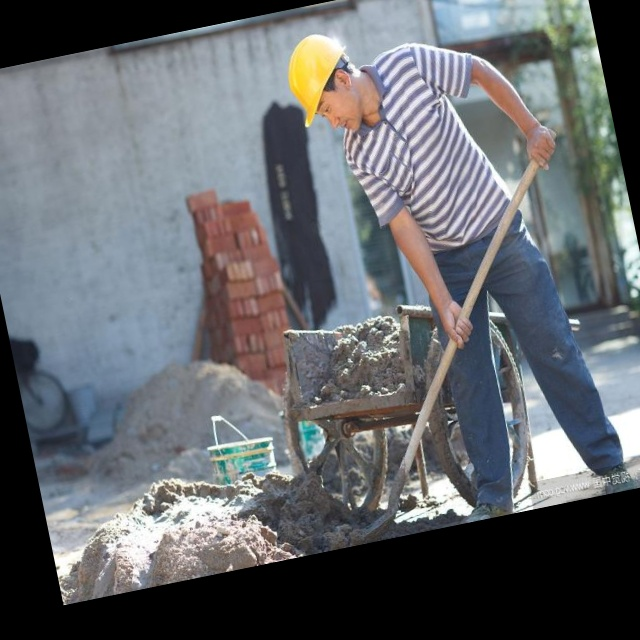Con_Casco: (281, 26, 370, 142)
